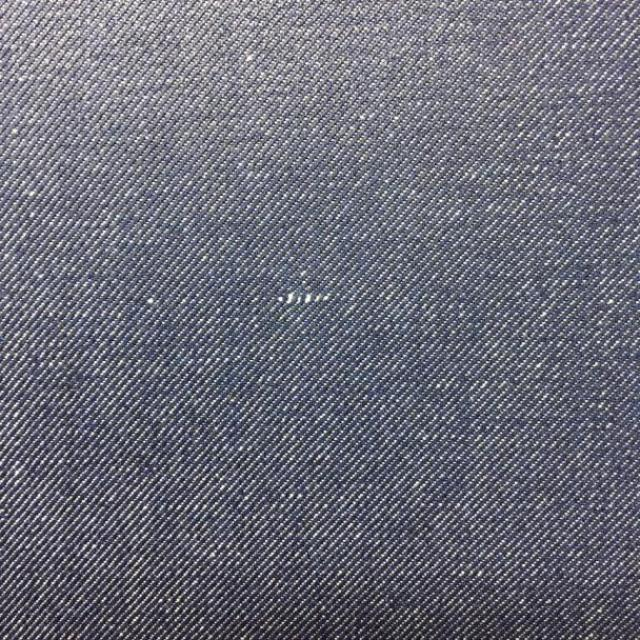Knot: (278, 291, 331, 305)
